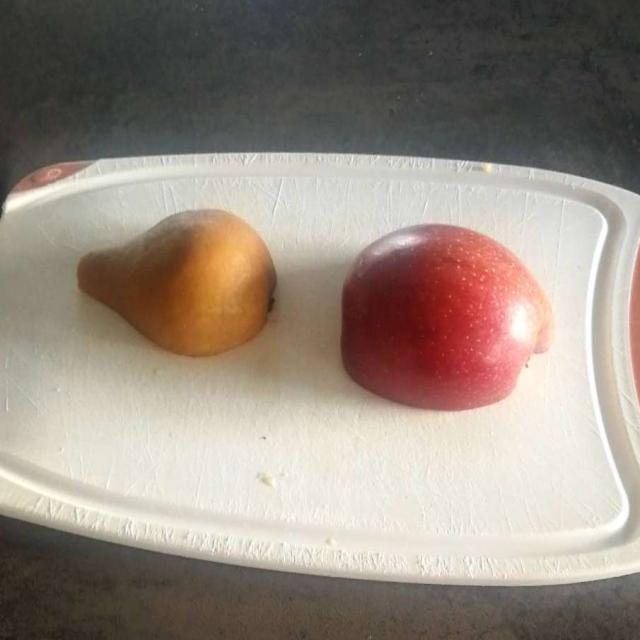apple: (348, 227, 550, 402)
pear: (77, 209, 273, 354)
